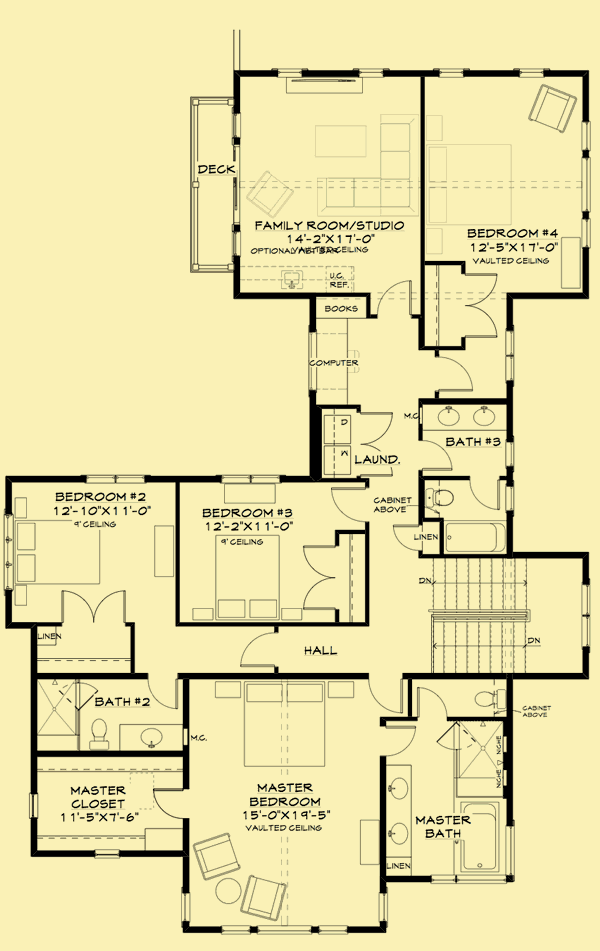bathroom has dual sink, large sink, bathtub and shower space: (381, 673, 518, 885)
bathroom has dual sinks, large sink and tub: (416, 396, 515, 555)
bathroom has small and large sink with shower space: (36, 680, 183, 753)
bedroom has double bed with bedside stands: (176, 478, 373, 630), (5, 478, 174, 630)
bedroom has double bed with bedside stands and couch: (425, 71, 591, 296)
laundry room has washer and dryer: (316, 401, 370, 482)
livingroom has large couches, small sofas and tables: (236, 68, 418, 294)
master bedroom has a double bed, small couches to sit and other tables: (182, 680, 392, 933)
these are stairs to the other floors: (410, 556, 592, 681)
